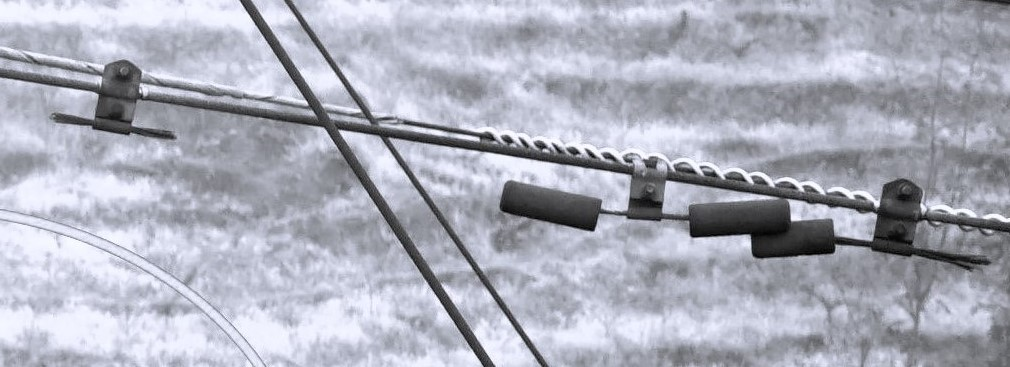Damage of shockproof hammer: (749, 168, 999, 289), (34, 49, 191, 152)
